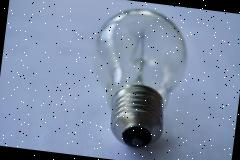lightbulb: (82, 2, 192, 152)
